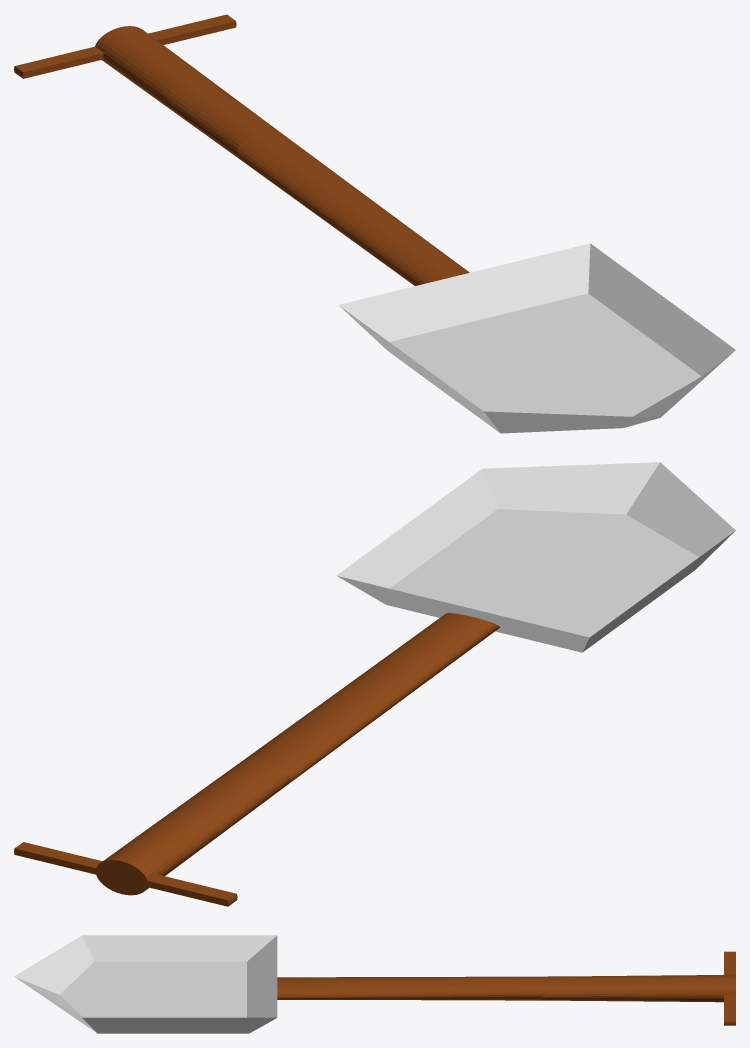
Rendered from Shovel.glb.
3 views of the same model, one above another, from view 1: azimuth 30°, elevation 25°; view 2: azimuth 150°, elevation 25°; view 3: azimuth 270°, elevation 25° (orthographic). The views are drawn at different scales.
Parts seen in each view (by area): view 1: Shovel; view 2: Shovel; view 3: Shovel.
Part boxes in pixels (<box>): Shovel: <box>14,14,735,433</box>; Shovel: <box>14,462,735,906</box>; Shovel: <box>14,935,735,1033</box>.
Size of the model in its own units: 2.58 by 0.367 by 9.54.
